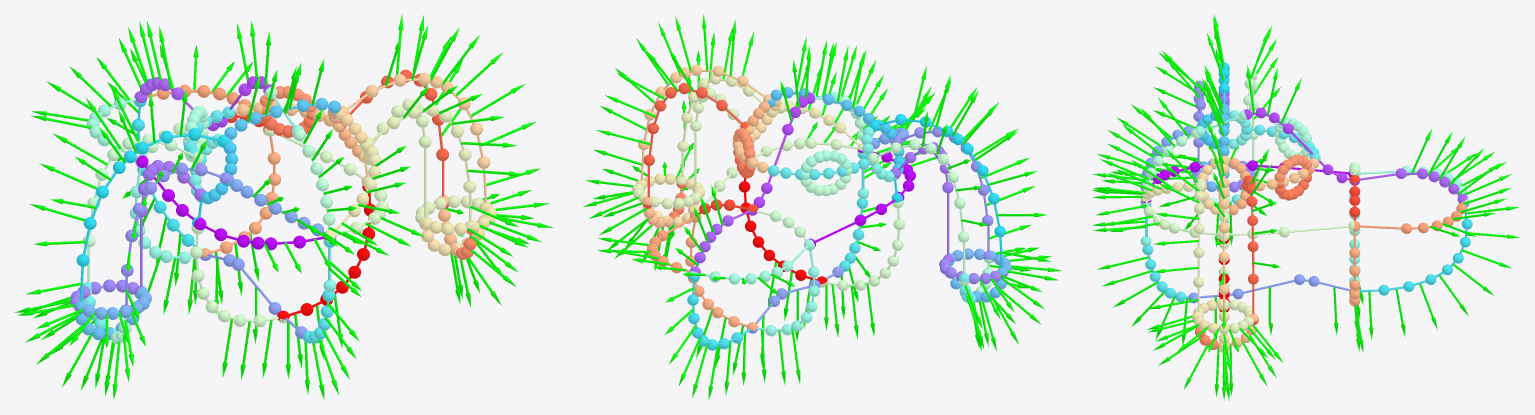
Rendered from scaffolds3d_dog.gltf.
3 renders of one model, left to right at view 1: azimuth 30°, elevation 25°; view 2: azimuth 150°, elevation 25°; view 3: azimuth 270°, elevation 25°, orthographic. The views are drawn at different scales.
Size of the model in its own units: 0.9129 by 0.5692 by 0.7851.
